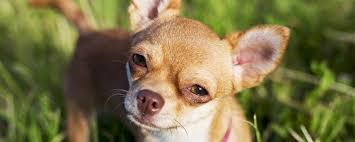chihuahua: (54, 1, 301, 142)
